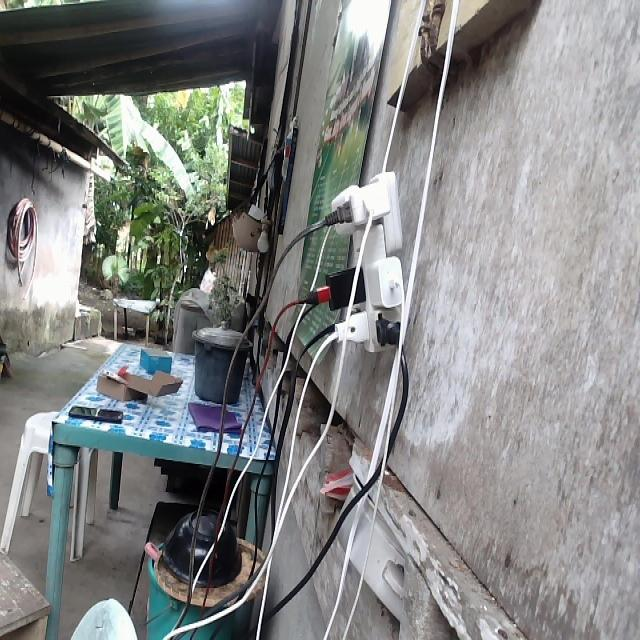-: (288, 164, 411, 393)
